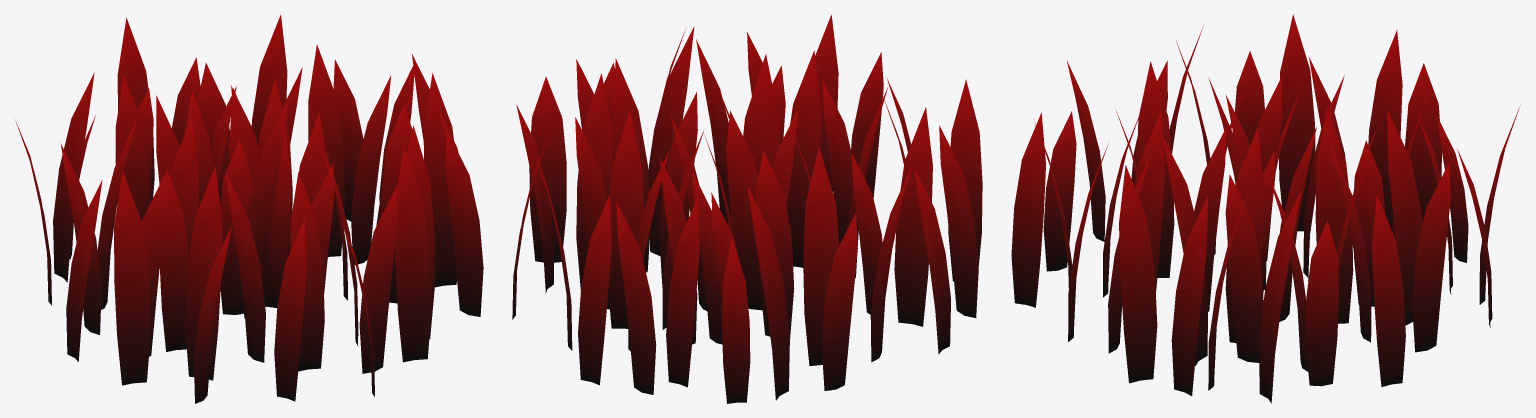
Rendered from grassface.glb.
3 renders of one model, left to right at view 1: azimuth 30°, elevation 25°; view 2: azimuth 150°, elevation 25°; view 3: azimuth 270°, elevation 25°, orthographic. The views are drawn at different scales.
Parts seen in each view (by area): view 1: Grass_02_LOD0; view 2: Grass_02_LOD0; view 3: Grass_02_LOD0.
Boxes of the visible parts, bbox=[...] form: Grass_02_LOD0: bbox=[15, 14, 483, 403]; Grass_02_LOD0: bbox=[512, 14, 982, 403]; Grass_02_LOD0: bbox=[1011, 14, 1520, 403].
Size of what is drawn, in the model's own units: 0.7216 by 0.401 by 0.7984.
